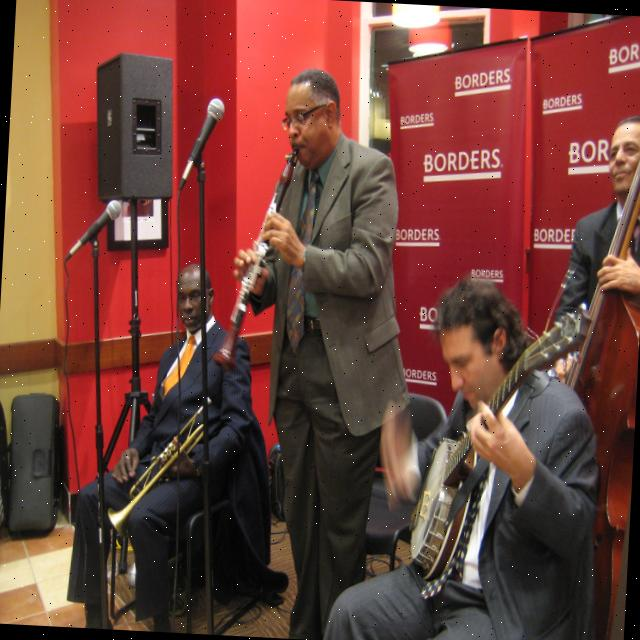clarinet: (214, 142, 301, 372)
